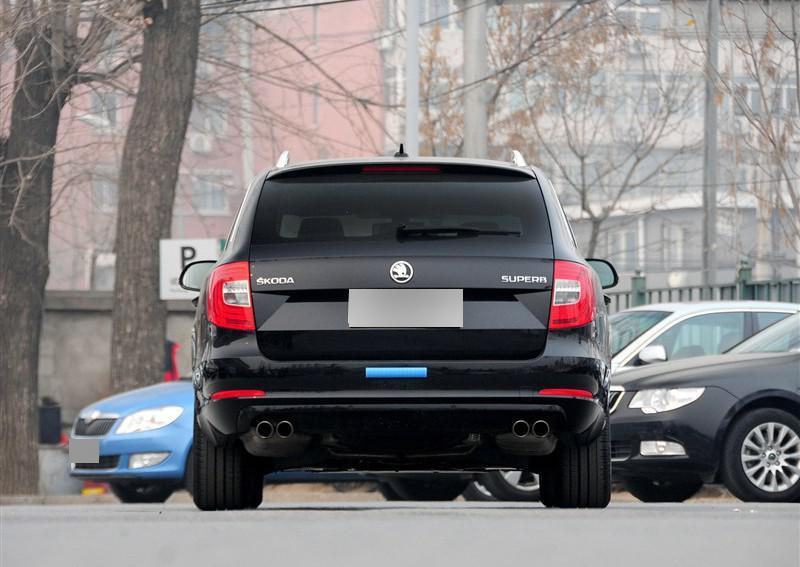Wagon: (177, 143, 620, 511)
